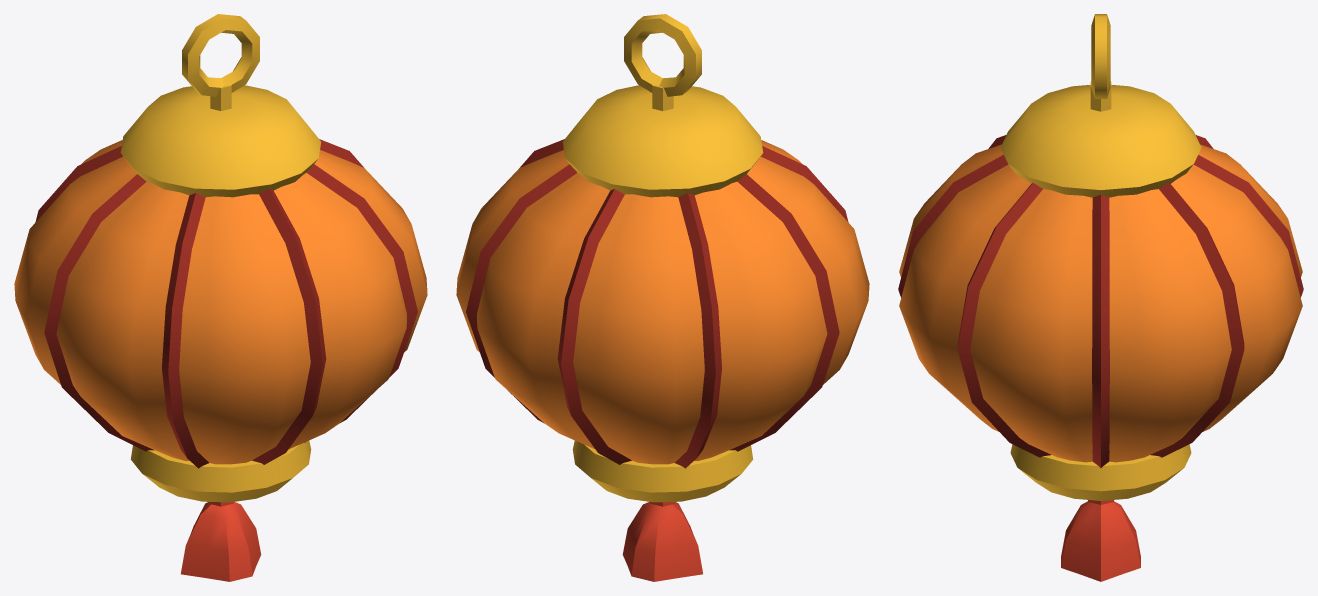
Rendered from lantern.glb.
3 views of the same model, side by side, from view 1: azimuth 30°, elevation 25°; view 2: azimuth 150°, elevation 25°; view 3: azimuth 270°, elevation 25° (orthographic).
Parts seen in each view (by area): view 1: lantern; view 2: lantern; view 3: lantern.
Part boxes in pixels (x1=…): lantern: x1=14, y1=14, x2=427, y2=581; lantern: x1=456, y1=14, x2=869, y2=581; lantern: x1=898, y1=14, x2=1303, y2=581.
Bounding box in the file's own units: 0.4034 × 0.5981 × 0.4034.
